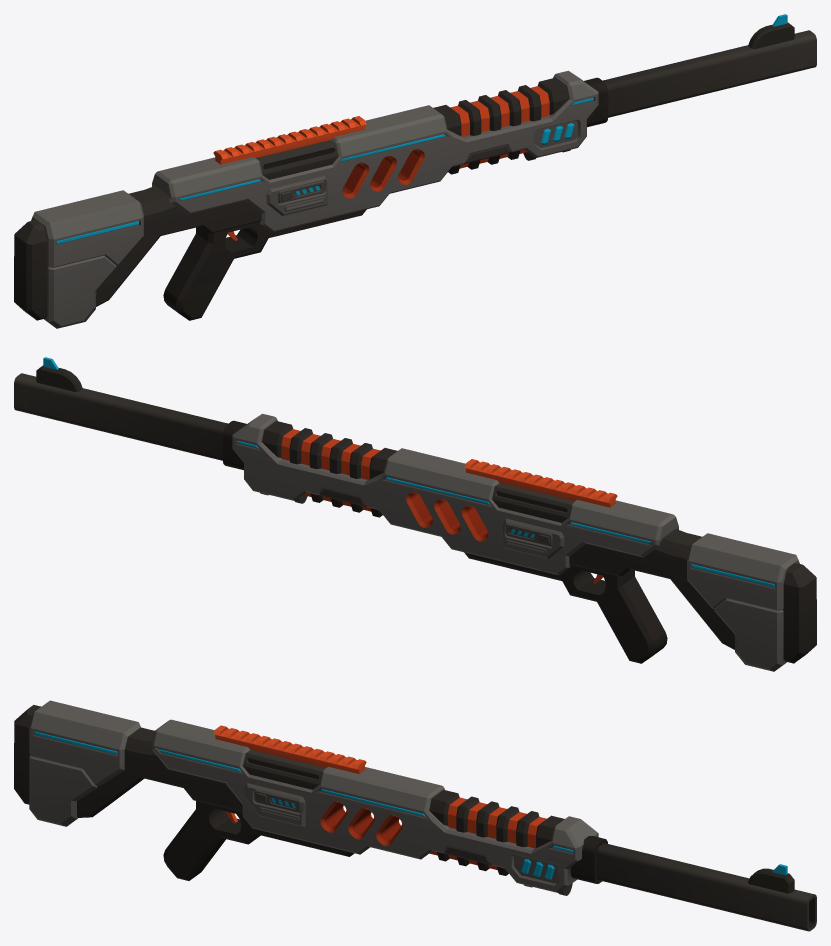
3 renders of one model, top to bottom at view 1: azimuth 30°, elevation 25°; view 2: azimuth 150°, elevation 25°; view 3: azimuth 330°, elevation 25°, orthographic.
Parts seen in each view (by area): view 1: SR6_Base; view 2: SR6_Base; view 3: SR6_Base.
Boxes of the visible parts, x1=… form: SR6_Base: x1=14, y1=14, x2=816, y2=328; SR6_Base: x1=14, y1=357, x2=816, y2=671; SR6_Base: x1=14, y1=700, x2=816, y2=931.
Bounding box in the file's own units: 127 × 23.74 × 7.25.
